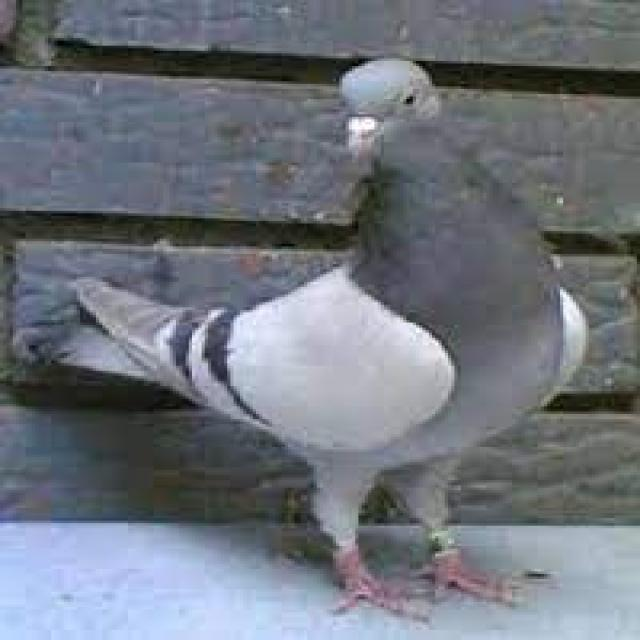bird: (17, 52, 601, 625)
